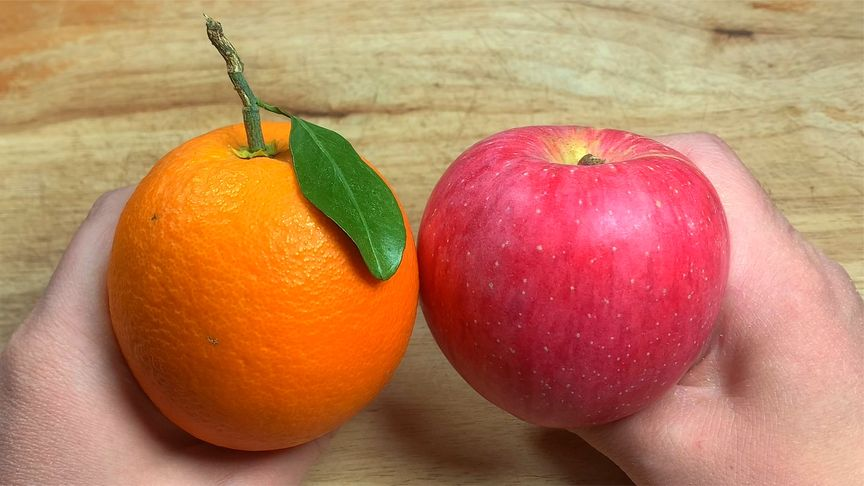apple: (417, 128, 730, 430)
orange: (108, 121, 417, 452)
